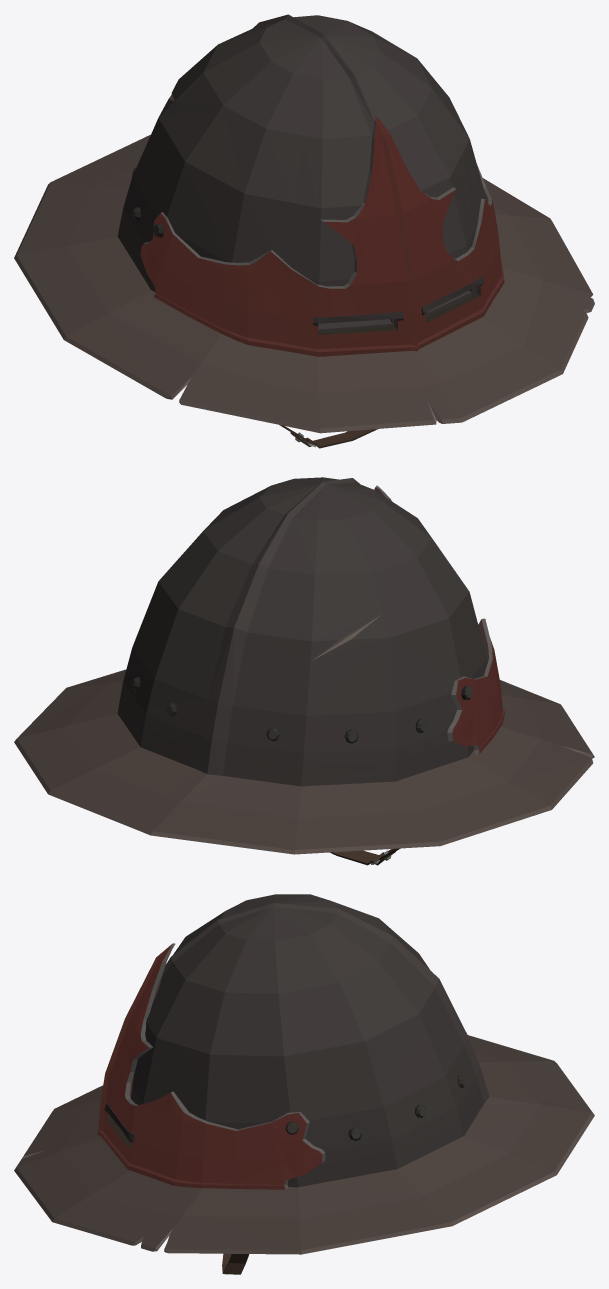
File: bucketHelmet.glb
The picture shows the model from 3 angles, top to bottom: view 1: azimuth 30°, elevation 25°; view 2: azimuth 150°, elevation 25°; view 3: azimuth 270°, elevation 25°; orthographic projection. The views are drawn at different scales.
Parts seen in each view (by area): view 1: bucketHelmet; view 2: bucketHelmet; view 3: bucketHelmet.
Part boxes in pixels (<box>): bucketHelmet: <box>14,14,594,448</box>; bucketHelmet: <box>14,477,594,865</box>; bucketHelmet: <box>14,894,594,1274</box>.
Size of the model in its own units: 0.4766 by 0.3635 by 0.5265.
